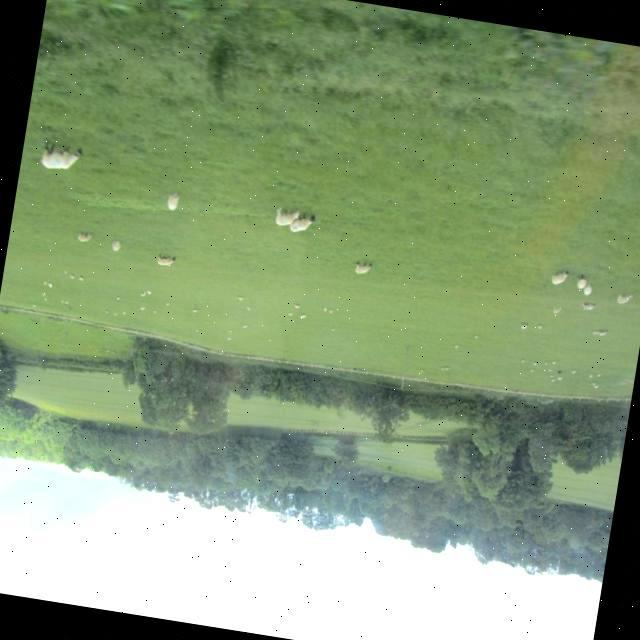sheep: (41, 143, 81, 169)
